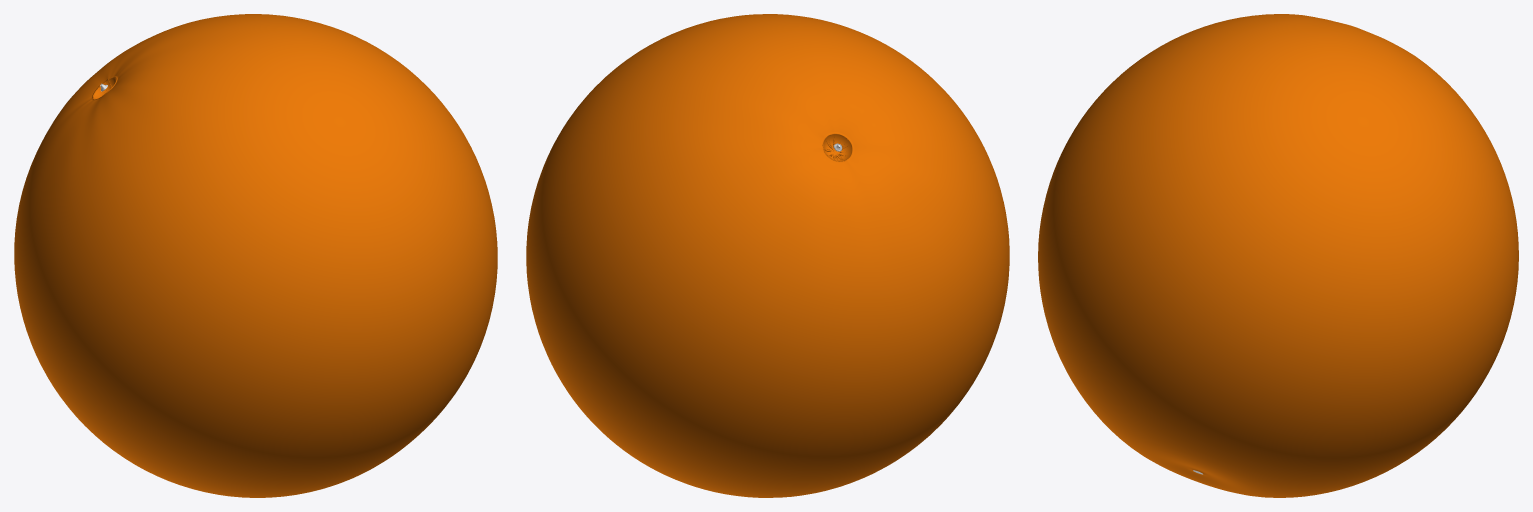
File: Orange.fbx
3 views of the same model, side by side, from view 1: azimuth 30°, elevation 25°; view 2: azimuth 150°, elevation 25°; view 3: azimuth 270°, elevation 25° (orthographic).
Parts seen in each view (by area): view 1: Orange; view 2: Orange; view 3: Orange.
Boxes of the visible parts, x1=… form: Orange: x1=14, y1=14, x2=497, y2=497; Orange: x1=526, y1=14, x2=1009, y2=497; Orange: x1=1038, y1=14, x2=1518, y2=497.
Size of the model in its own units: 192 by 192 by 192.
